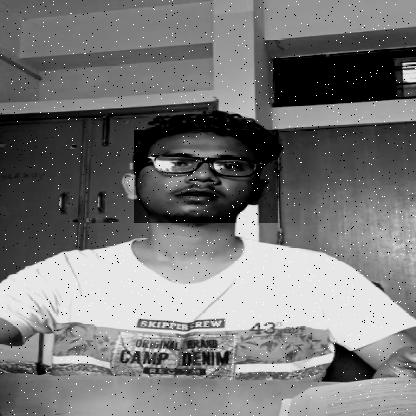Normal: (134, 130, 278, 223)
